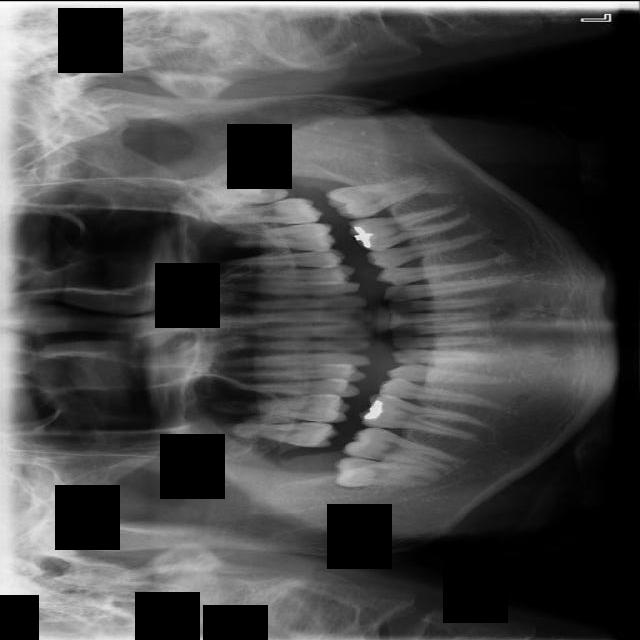52: (355, 385, 413, 439), (348, 216, 404, 250)
73: (594, 36, 608, 40)
BioHorizons Implant: (210, 196, 324, 226)
BioLife Implant: (188, 171, 290, 213)
Blue Sky Bio Implant: (324, 173, 434, 222)
Caries: (228, 417, 339, 448)
Implant: (341, 421, 465, 475)
Keystone Dental Implant: (333, 456, 443, 487)
